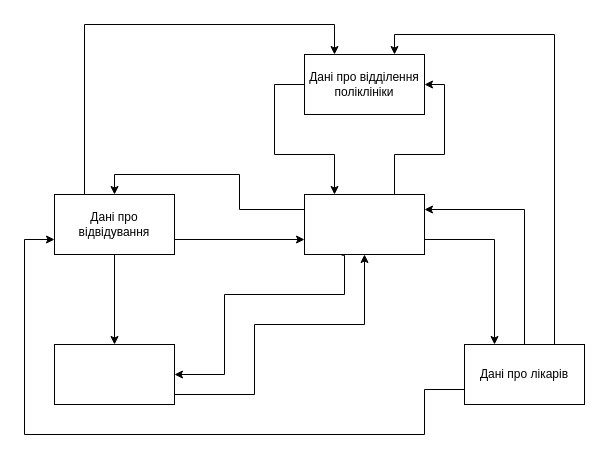
Some shapes in this 602 by 460 pixel diagram are drawn without their labels. The shapes that lost their labels are listed below. From the top down, each one's box as (x1, y1, x2, y2) in pixels, then its label:
(304, 194, 424, 254): Працівник поліклініки
(54, 344, 174, 404): Дані про пацієнтів
